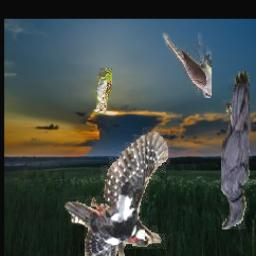Crow: (222, 71, 251, 229)
Cuckoo: (163, 33, 213, 98)
Sparrow: (93, 69, 113, 116)
Woodpecker: (65, 127, 170, 256)
